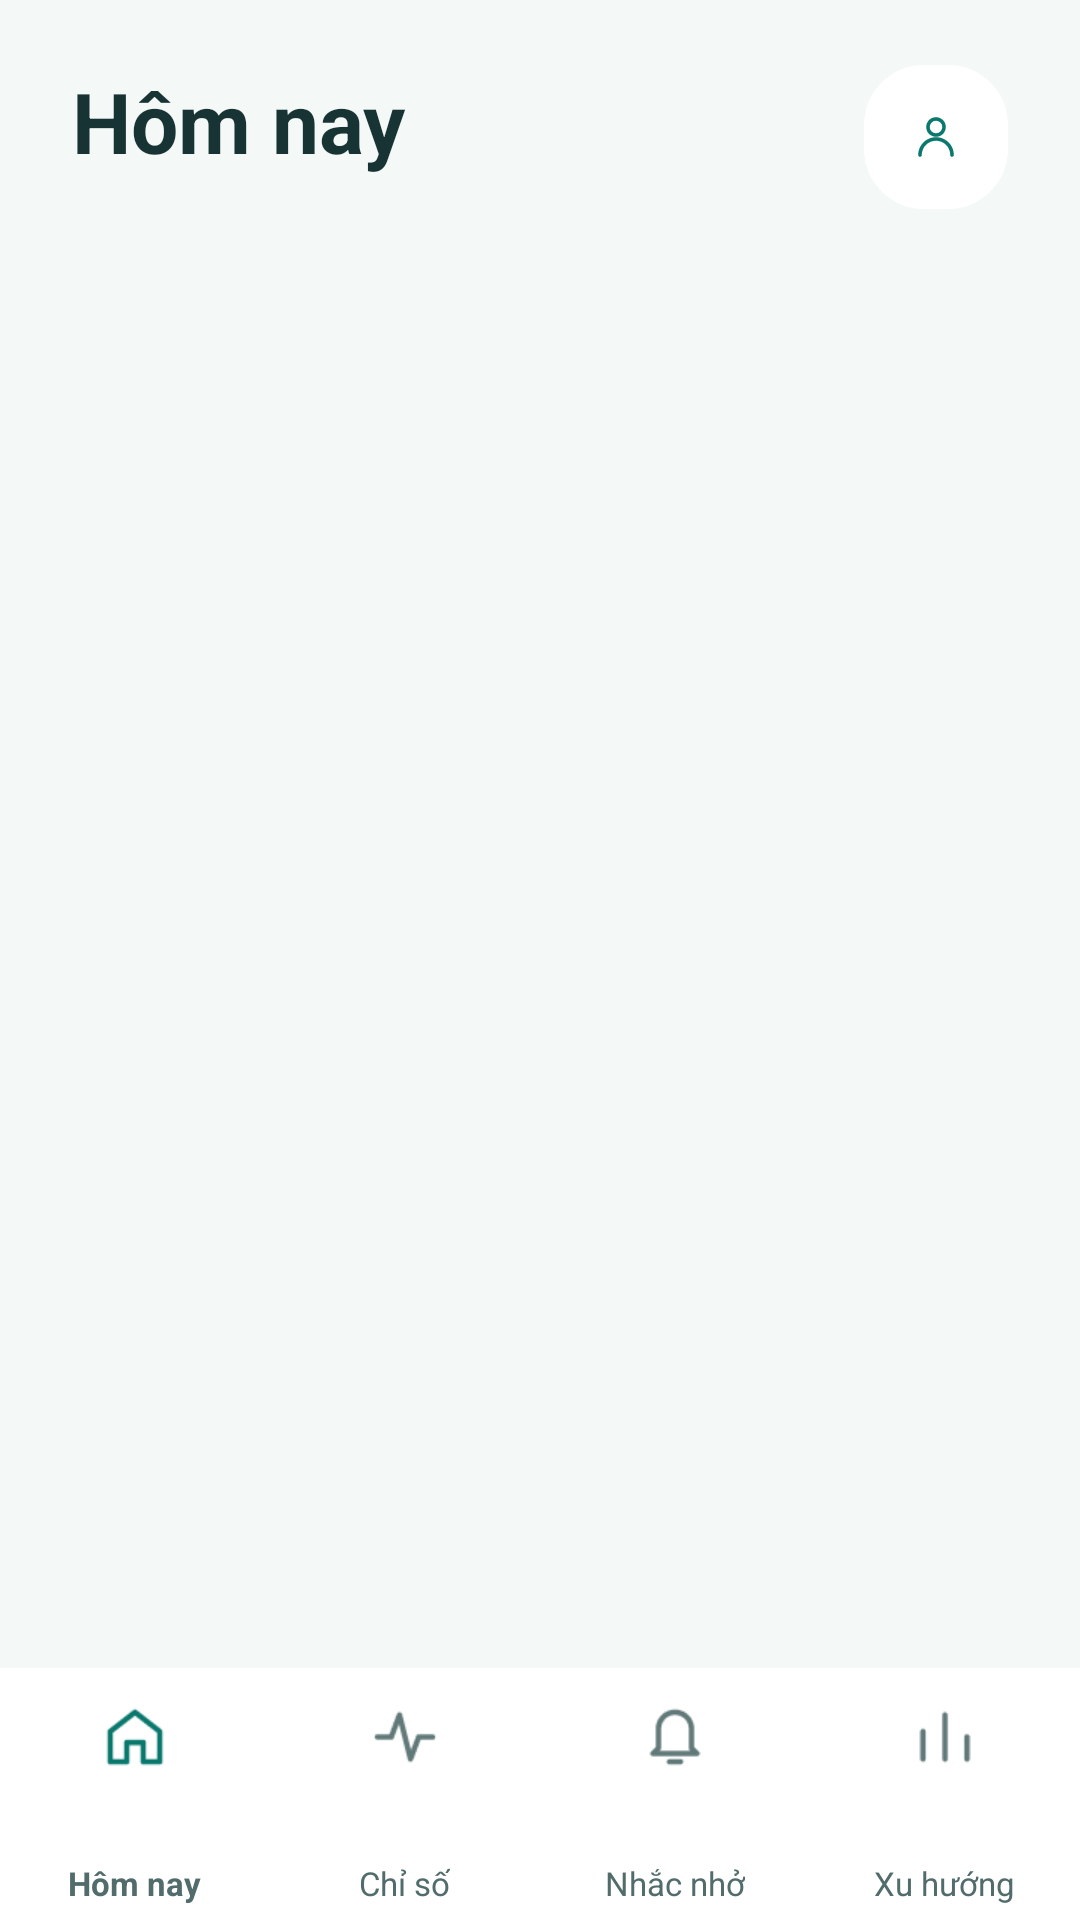

Locate icon controls on the screen. Image size 1080x1920, boxes as [x1,y1,x2,y2].
Hồ sơ: [864,65,1008,209]
